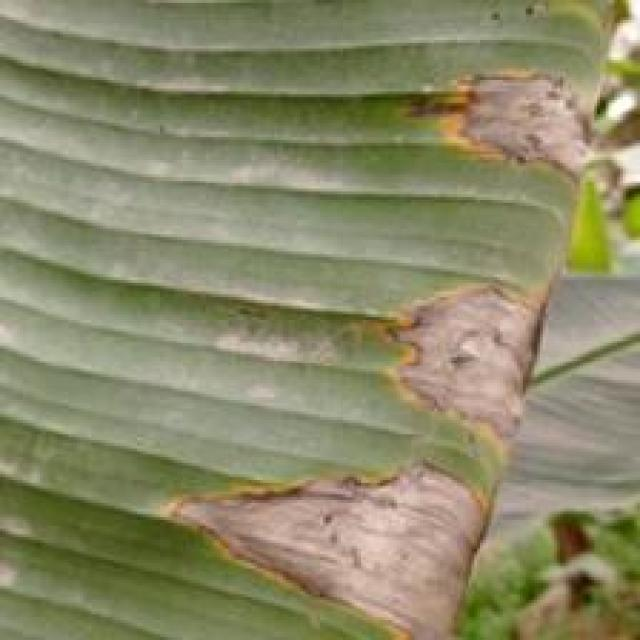Bacterial_spot: (160, 445, 497, 640), (372, 266, 554, 454), (410, 58, 614, 185), (448, 0, 592, 37)
